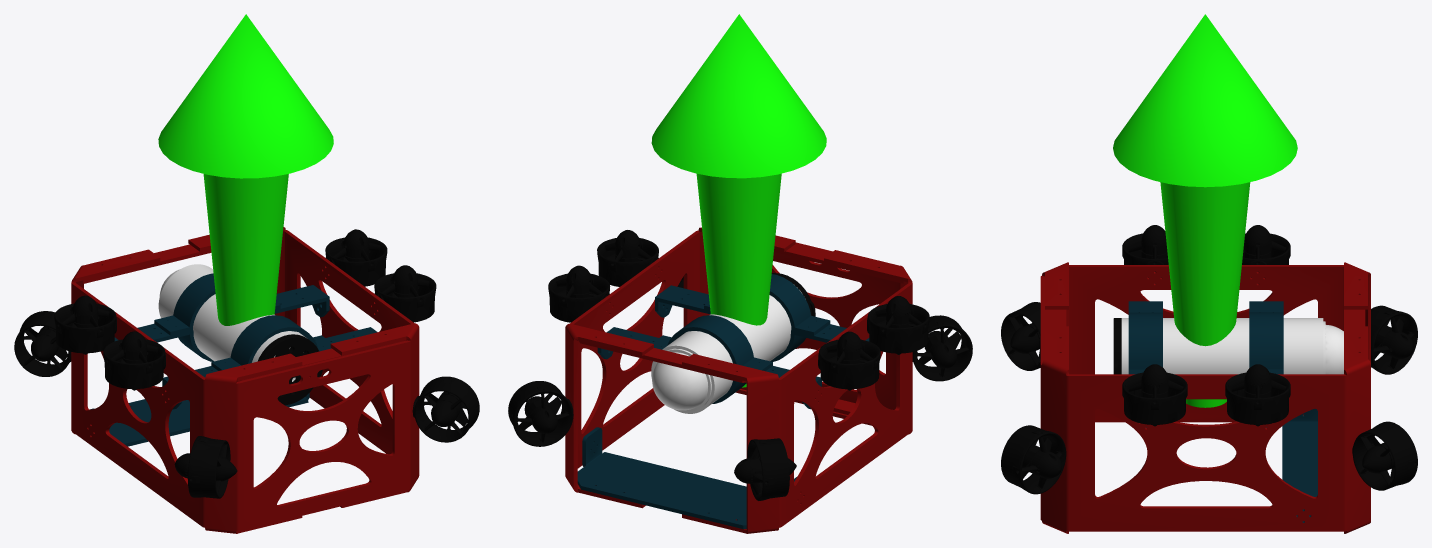
Rendered from Full-Robot-Body.gltf.
3 views of the same model, side by side, from view 1: azimuth 30°, elevation 25°; view 2: azimuth 150°, elevation 25°; view 3: azimuth 270°, elevation 25° (orthographic). The views are drawn at different scales.
Parts seen in each view (by area): view 1: Full-Robot-Body.762, Cylinder, Full-Robot-Body.770, Full-Robot-Body.763, Full-Robot-Body.851, Full-Robot-Body.1082, Full-Robot-Body.1081, Full-Robot-Body.1086, Full-Robot-Body.1084, Full-Robot-Body.1085, Full-Robot-Body.1079, Full-Robot-Body.1080 (+3 smaller); view 2: Full-Robot-Body.762, Cylinder, Full-Robot-Body.763, Full-Robot-Body.1086, Full-Robot-Body.1083, Full-Robot-Body.770, Full-Robot-Body.1081, Full-Robot-Body.1082, Full-Robot-Body.1084, Full-Robot-Body.1085, Full-Robot-Body.1080, Full-Robot-Body.768 (+3 smaller); view 3: Full-Robot-Body.762, Cylinder, Full-Robot-Body.763, Full-Robot-Body.1083, Full-Robot-Body.851, Full-Robot-Body.1079, Full-Robot-Body.1080, Full-Robot-Body.1085, Full-Robot-Body.1086, Full-Robot-Body.770, Full-Robot-Body.1084, Full-Robot-Body.1081 (+3 smaller).
Boxes of the visible parts, x1=… form: Full-Robot-Body.762: x1=71, y1=227, x2=419, y2=533; Cylinder: x1=158, y1=14, x2=333, y2=325; Full-Robot-Body.770: x1=114, y1=273, x2=329, y2=361; Full-Robot-Body.763: x1=158, y1=264, x2=305, y2=381; Full-Robot-Body.851: x1=412, y1=376, x2=479, y2=442; Full-Robot-Body.1082: x1=103, y1=331, x2=165, y2=390; Full-Robot-Body.1081: x1=54, y1=295, x2=116, y2=354; Full-Robot-Body.1086: x1=162, y1=315, x2=377, y2=409; Full-Robot-Body.1084: x1=174, y1=436, x2=237, y2=498; Full-Robot-Body.1085: x1=14, y1=311, x2=71, y2=376; Full-Robot-Body.1079: x1=374, y1=265, x2=436, y2=322; Full-Robot-Body.1080: x1=325, y1=229, x2=387, y2=286; Full-Robot-Body.762: x1=565, y1=227, x2=912, y2=533; Cylinder: x1=651, y1=14, x2=826, y2=387; Full-Robot-Body.763: x1=651, y1=287, x2=801, y2=413; Full-Robot-Body.1086: x1=655, y1=274, x2=869, y2=361; Full-Robot-Body.1083: x1=508, y1=381, x2=573, y2=446; Full-Robot-Body.770: x1=597, y1=315, x2=821, y2=409; Full-Robot-Body.1081: x1=818, y1=331, x2=880, y2=390; Full-Robot-Body.1082: x1=867, y1=296, x2=929, y2=354; Full-Robot-Body.1084: x1=912, y1=315, x2=972, y2=381; Full-Robot-Body.1085: x1=734, y1=438, x2=796, y2=500; Full-Robot-Body.1080: x1=548, y1=265, x2=610, y2=322; Full-Robot-Body.768: x1=652, y1=348, x2=711, y2=411; Full-Robot-Body.762: x1=1040, y1=262, x2=1370, y2=533; Cylinder: x1=1113, y1=14, x2=1297, y2=407; Full-Robot-Body.763: x1=1121, y1=318, x2=1323, y2=374; Full-Robot-Body.1083: x1=1352, y1=421, x2=1417, y2=490; Full-Robot-Body.851: x1=1001, y1=425, x2=1066, y2=494; Full-Robot-Body.1079: x1=1122, y1=364, x2=1187, y2=426; Full-Robot-Body.1080: x1=1225, y1=364, x2=1290, y2=426; Full-Robot-Body.1085: x1=1371, y1=305, x2=1417, y2=374; Full-Robot-Body.1086: x1=1128, y1=301, x2=1162, y2=427; Full-Robot-Body.770: x1=1249, y1=301, x2=1283, y2=427; Full-Robot-Body.1084: x1=1001, y1=302, x2=1040, y2=370; Full-Robot-Body.1081: x1=1242, y1=225, x2=1290, y2=283.
Size of the model in its own units: 17.52 by 22.85 by 18.51.
